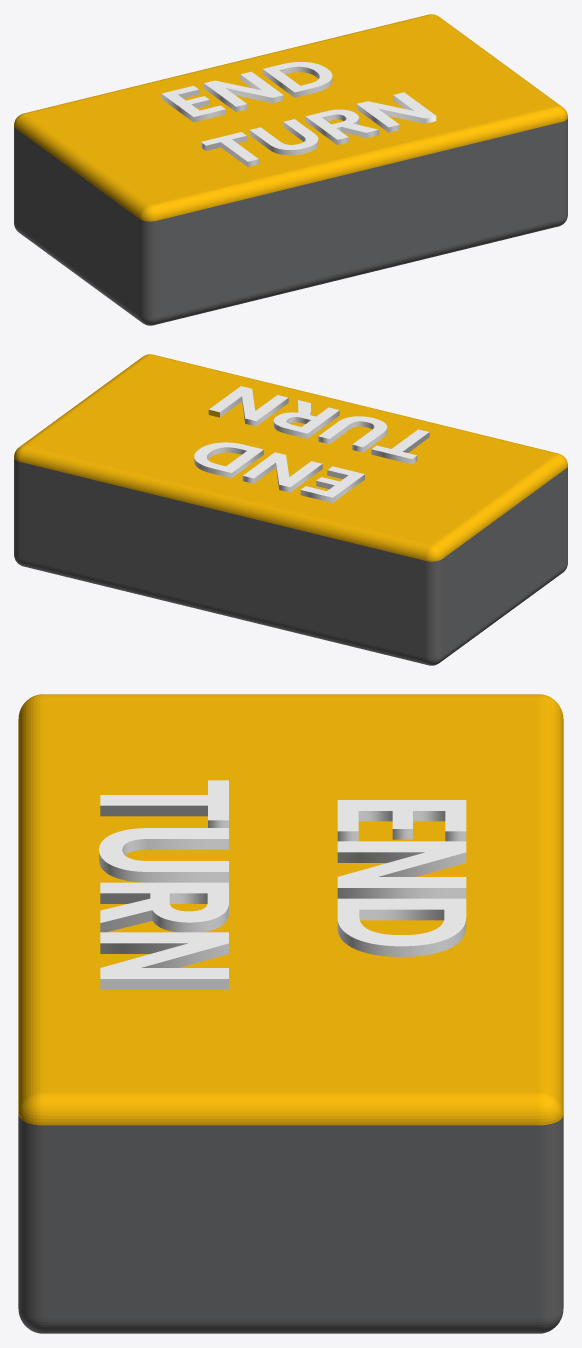
The model's file is enturn button.fbx.
3 renders of one model, top to bottom at view 1: azimuth 30°, elevation 25°; view 2: azimuth 150°, elevation 25°; view 3: azimuth 270°, elevation 25°, orthographic. The views are drawn at different scales.
Parts seen in each view (by area): view 1: Text.001; view 2: Text.001; view 3: Text.001.
Boxes of the visible parts, x1,y1,x2,y2 form: Text.001: (14, 14, 567, 325); Text.001: (14, 354, 567, 665); Text.001: (18, 694, 563, 1333).
Bounding box in the file's own units: 362 × 105 × 200.
